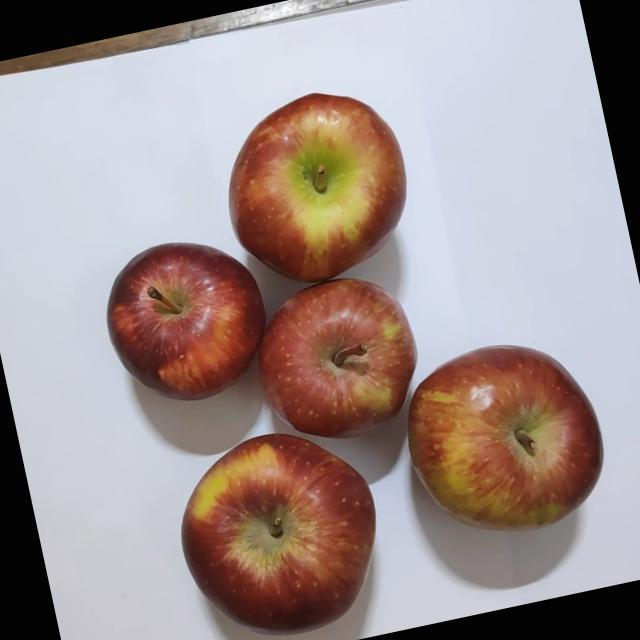apple: (150, 407, 410, 640), (387, 319, 628, 562), (204, 72, 430, 300), (234, 260, 436, 462), (88, 223, 286, 424)
